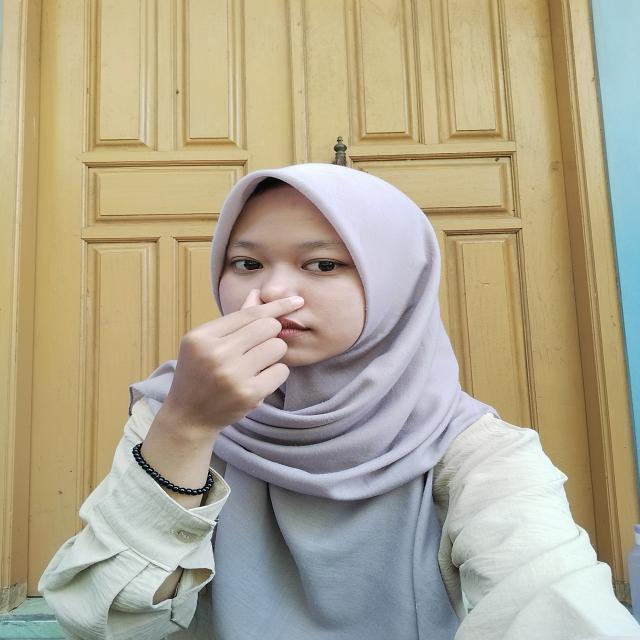bau: (147, 285, 316, 431)
